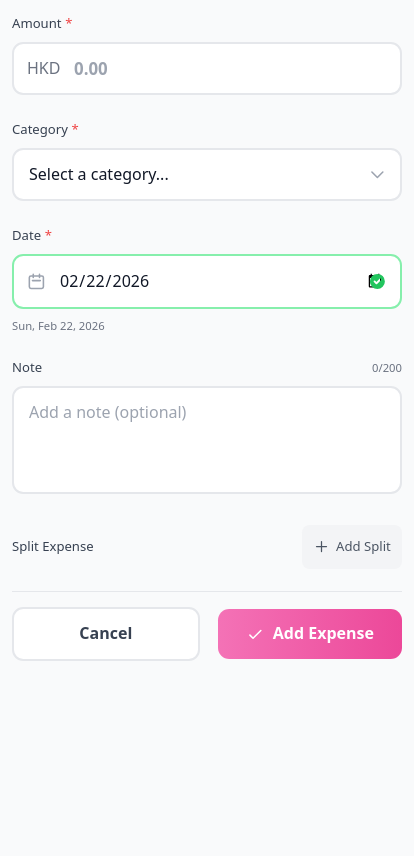
Test: Budget Molecules › ExpenseForm › validates required fields on submit
Click the button "Add Expense" at [310, 634], box [218,609,402,659]
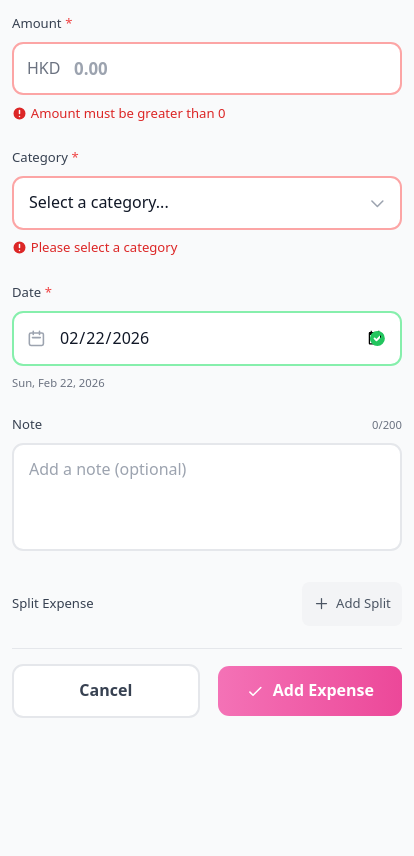
Result: the text "Amount must be greater than 0" is shown at [12,104,225,122]
Result: the text "Please select a category" is shown at [12,238,177,256]
